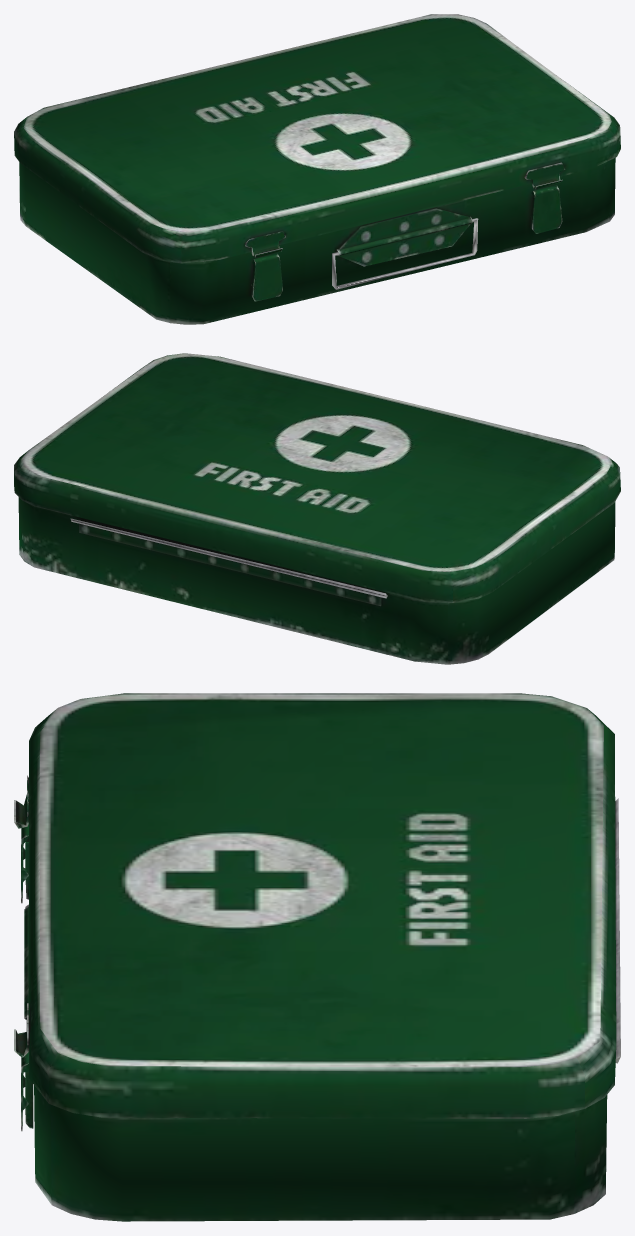
File: medical_box.glb
3 renders of one model, top to bottom at view 1: azimuth 30°, elevation 25°; view 2: azimuth 150°, elevation 25°; view 3: azimuth 270°, elevation 25°, orthographic. The views are drawn at different scales.
Visible parts, largest first — view 1: medical_box_latch; view 2: medical_box_latch; view 3: medical_box_latch.
Part boxes in pixels (left/top/right/bottom): medical_box_latch: left=14, top=14, right=620, bottom=324; medical_box_latch: left=14, top=353, right=620, bottom=664; medical_box_latch: left=14, top=693, right=620, bottom=1221.
Size of the model in its own units: 0.5255 by 0.0967 by 0.3497.
Materials: 1 (1 with a texture image).
